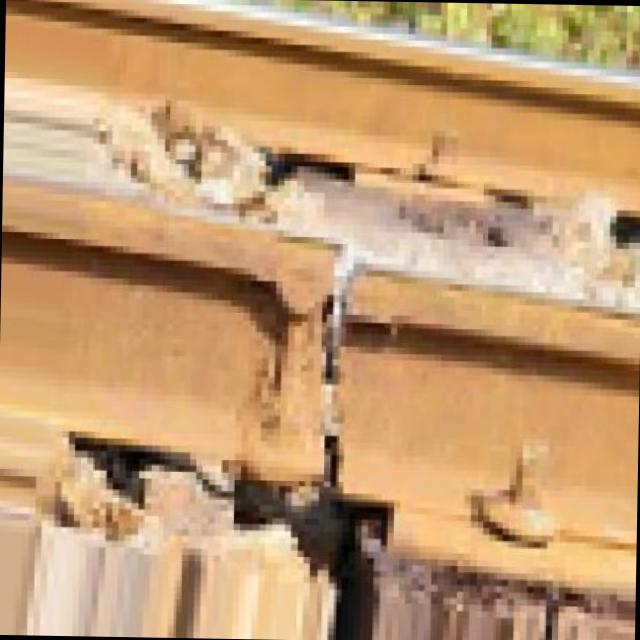defective: (0, 159, 640, 587)
